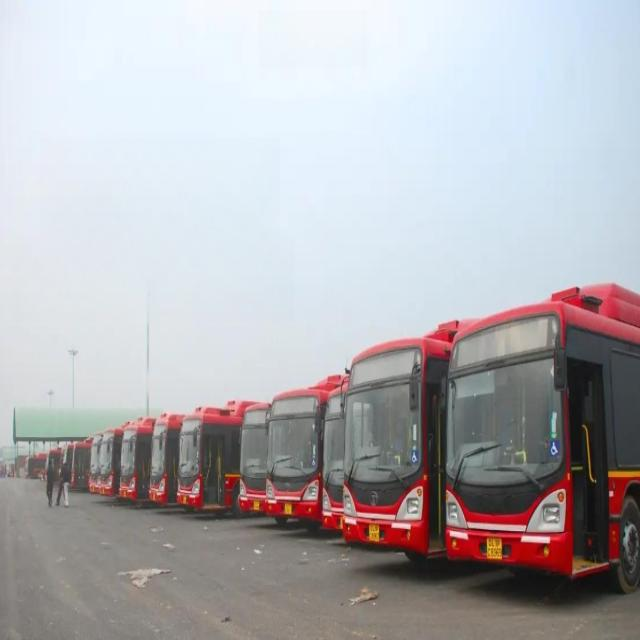bus: (445, 282, 640, 590), (341, 322, 459, 560), (265, 376, 340, 526), (178, 400, 253, 514), (150, 413, 184, 504)
